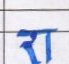aa_matra: (47, 37, 51, 61)
